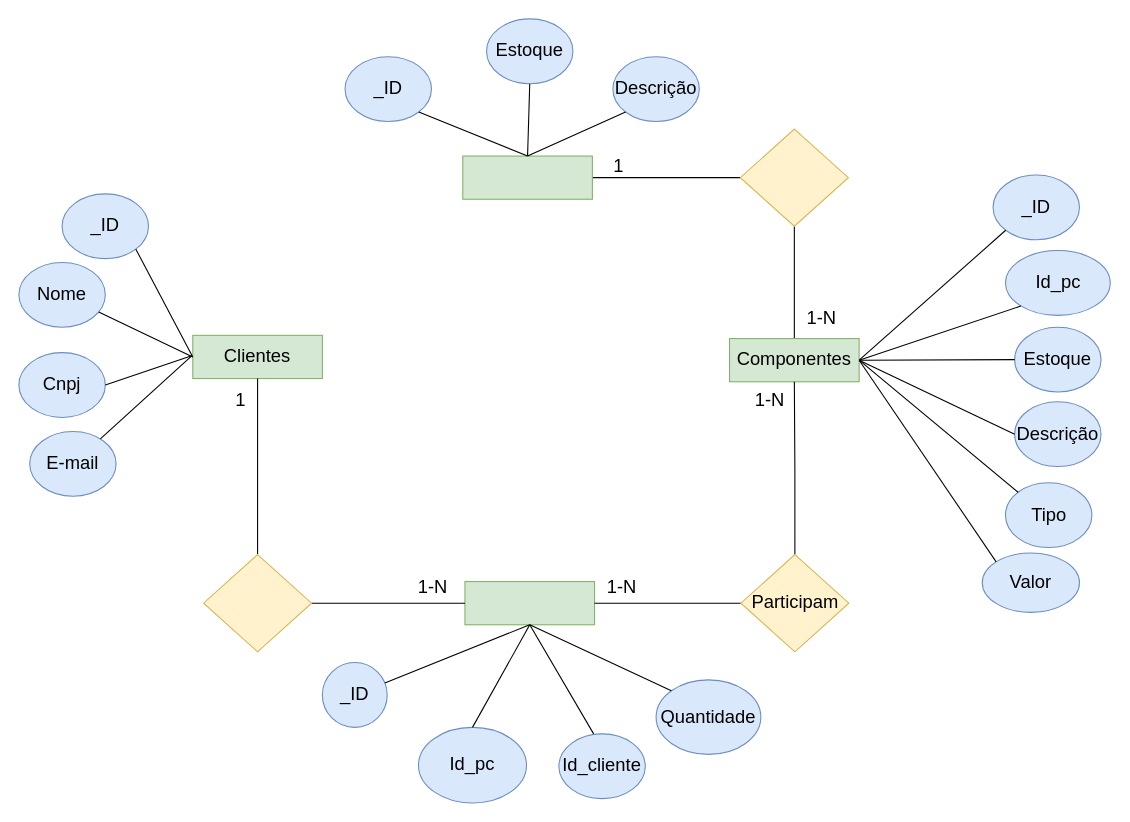
Some shapes in this 1130 by 822 pixel diagram are drawn without their labels. The centre of each missing label's shape, as x and y in pixels:
"Compra" belongs at (x=529, y=602).
"Computadores" belongs at (x=527, y=177).
"Compõem" belongs at (x=793, y=177).
"Realizam" belongs at (x=257, y=603).
